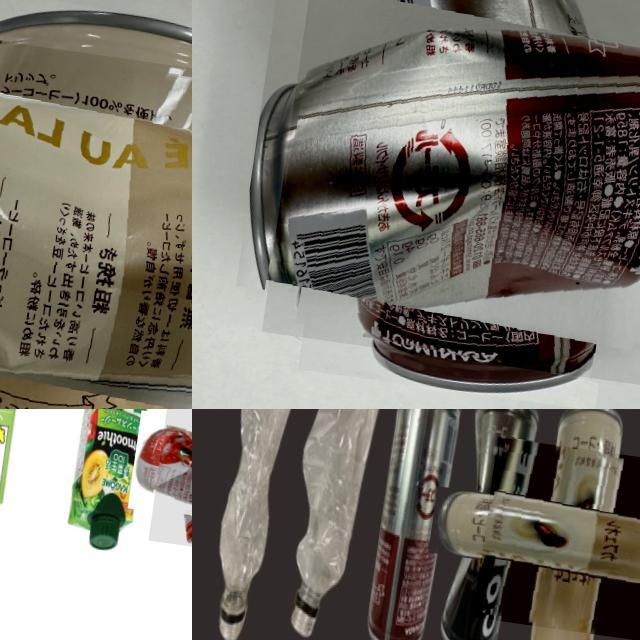Aluminium Foil: (60, 409, 161, 557)
Can: (261, 0, 640, 383), (0, 28, 192, 409), (471, 436, 640, 640), (438, 409, 540, 640), (361, 409, 461, 640), (147, 409, 192, 559)
Transparent Plastic Bottle: (276, 409, 383, 640), (200, 409, 299, 640)
